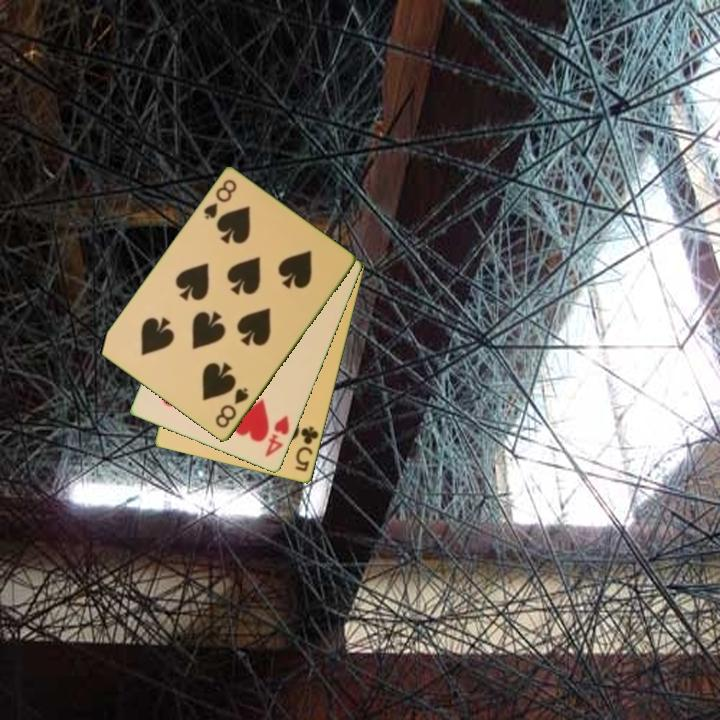4h: (261, 412, 292, 460)
5c: (292, 423, 322, 475)
8s: (212, 384, 252, 431), (200, 176, 240, 223)
